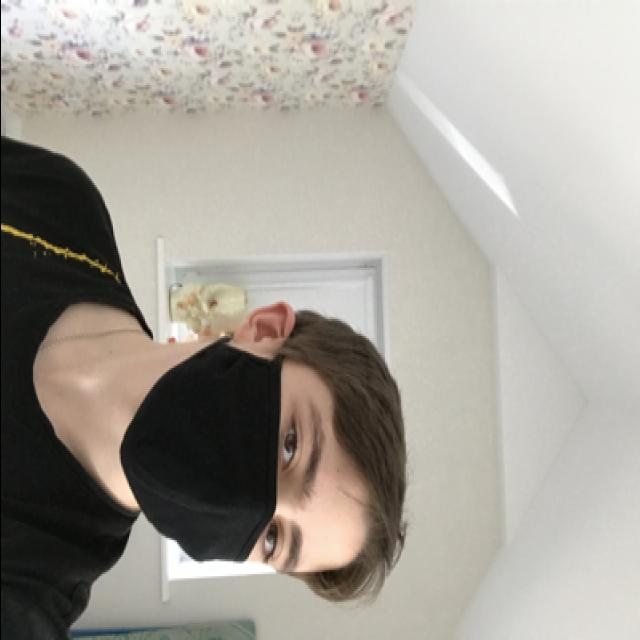with_mask: (119, 341, 348, 578)
